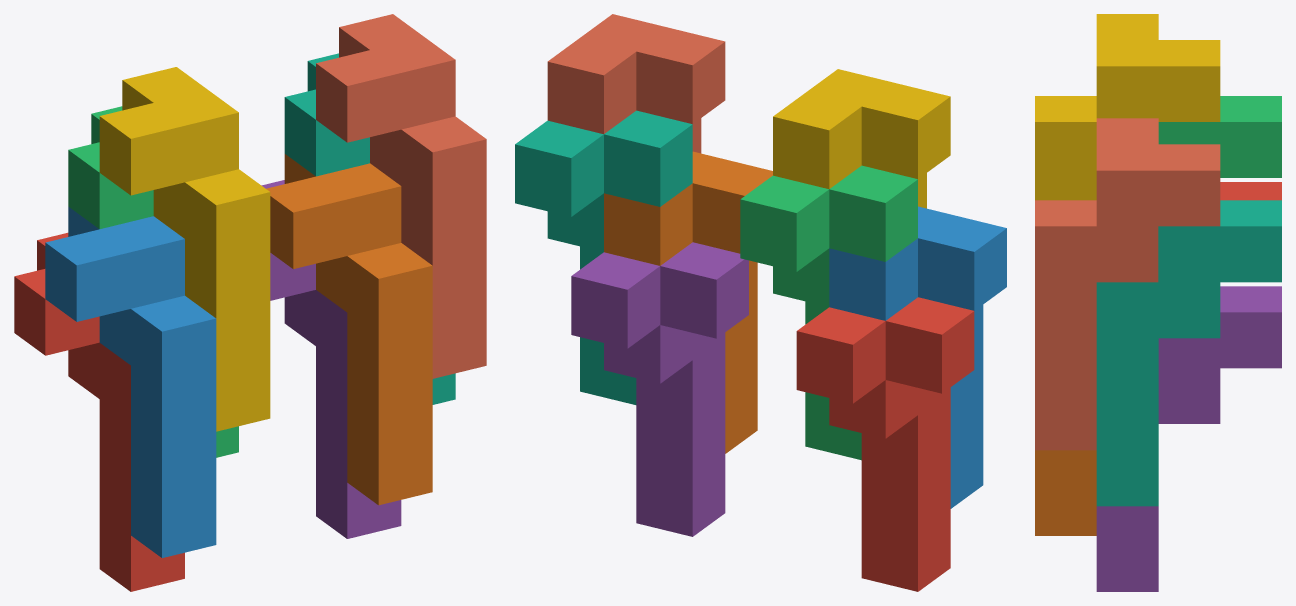
File: tiling.obj
3 views of the same model, side by side, from view 1: azimuth 30°, elevation 25°; view 2: azimuth 150°, elevation 25°; view 3: azimuth 270°, elevation 25° (orthographic). The views are drawn at different scales.
Visible parts, largest first — view 1: copy_1_domain_2, copy_1_domain_6, copy_1_domain_4, copy_1_domain_8, copy_1_domain_1, copy_1_domain_5, copy_1_domain_7, copy_1_domain_3; view 2: copy_1_domain_1, copy_1_domain_5, copy_1_domain_3, copy_1_domain_7, copy_1_domain_2, copy_1_domain_8, copy_1_domain_4, copy_1_domain_6; view 3: copy_1_domain_8, copy_1_domain_7, copy_1_domain_4, copy_1_domain_5, copy_1_domain_3, copy_1_domain_6, copy_1_domain_1.
Part boxes in pixels (box(x1,y1,x2,y2)): copy_1_domain_2: box(45, 206, 216, 557); copy_1_domain_6: box(266, 154, 432, 505); copy_1_domain_4: box(99, 67, 270, 431); copy_1_domain_8: box(316, 14, 486, 378); copy_1_domain_1: box(14, 232, 184, 591); copy_1_domain_5: box(261, 180, 401, 538); copy_1_domain_7: box(284, 53, 455, 404); copy_1_domain_3: box(68, 106, 238, 457); copy_1_domain_1: box(796, 297, 974, 591); copy_1_domain_5: box(571, 242, 748, 536); copy_1_domain_3: box(740, 165, 917, 460); copy_1_domain_7: box(515, 110, 692, 404); copy_1_domain_2: box(829, 206, 1006, 508); copy_1_domain_8: box(547, 14, 725, 153); copy_1_domain_4: box(773, 69, 950, 208); copy_1_domain_6: box(604, 151, 772, 453); copy_1_domain_8: box(1035, 118, 1220, 450); copy_1_domain_7: box(1096, 200, 1281, 506); copy_1_domain_4: box(1035, 14, 1220, 200); copy_1_domain_5: box(1096, 286, 1281, 591); copy_1_domain_3: box(1158, 96, 1281, 177); copy_1_domain_6: box(1035, 450, 1096, 535); copy_1_domain_1: box(1220, 182, 1281, 200).
Size of the model in its own units: 7 by 8 by 4.
